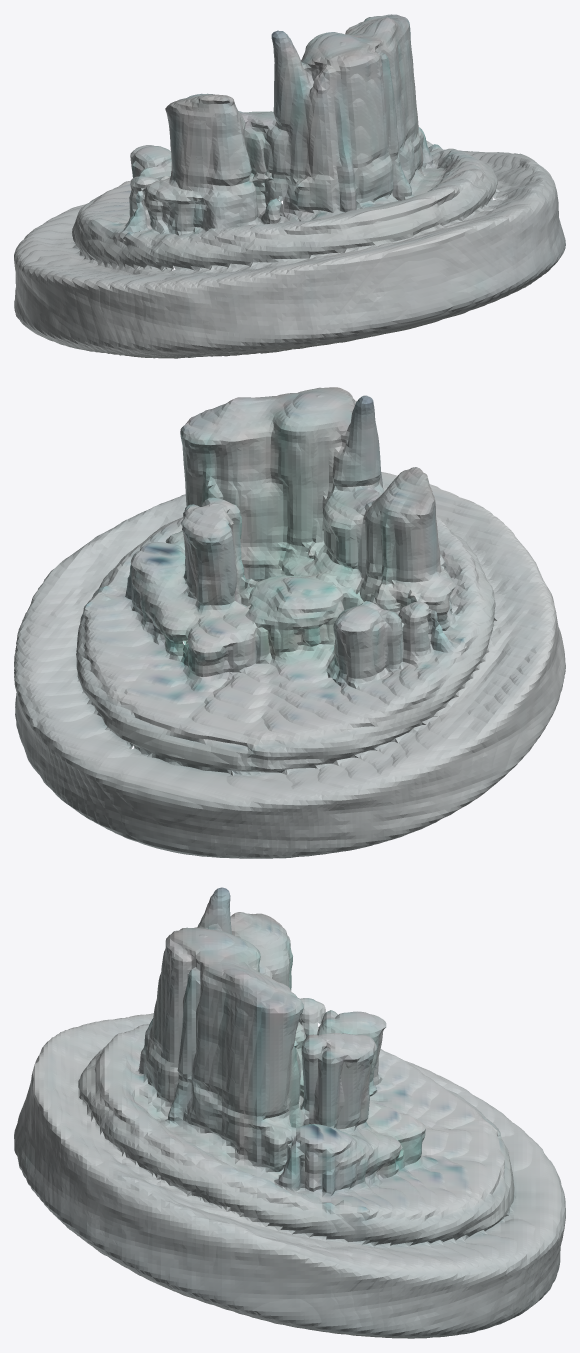
File: room-05-open-studio.glb
3 renders of one model, top to bottom at view 1: azimuth 30°, elevation 25°; view 2: azimuth 150°, elevation 25°; view 3: azimuth 270°, elevation 25°, orthographic. The views are drawn at different scales.
Parts seen in each view (by area): view 1: world; view 2: world; view 3: world.
Part boxes in pixels (x1,y1,x2,y2): world: (14,14,565,358); world: (14,387,565,858); world: (14,887,565,1338).
Bounding box in the file's own units: 0.8969 × 0.6243 × 0.8649.
